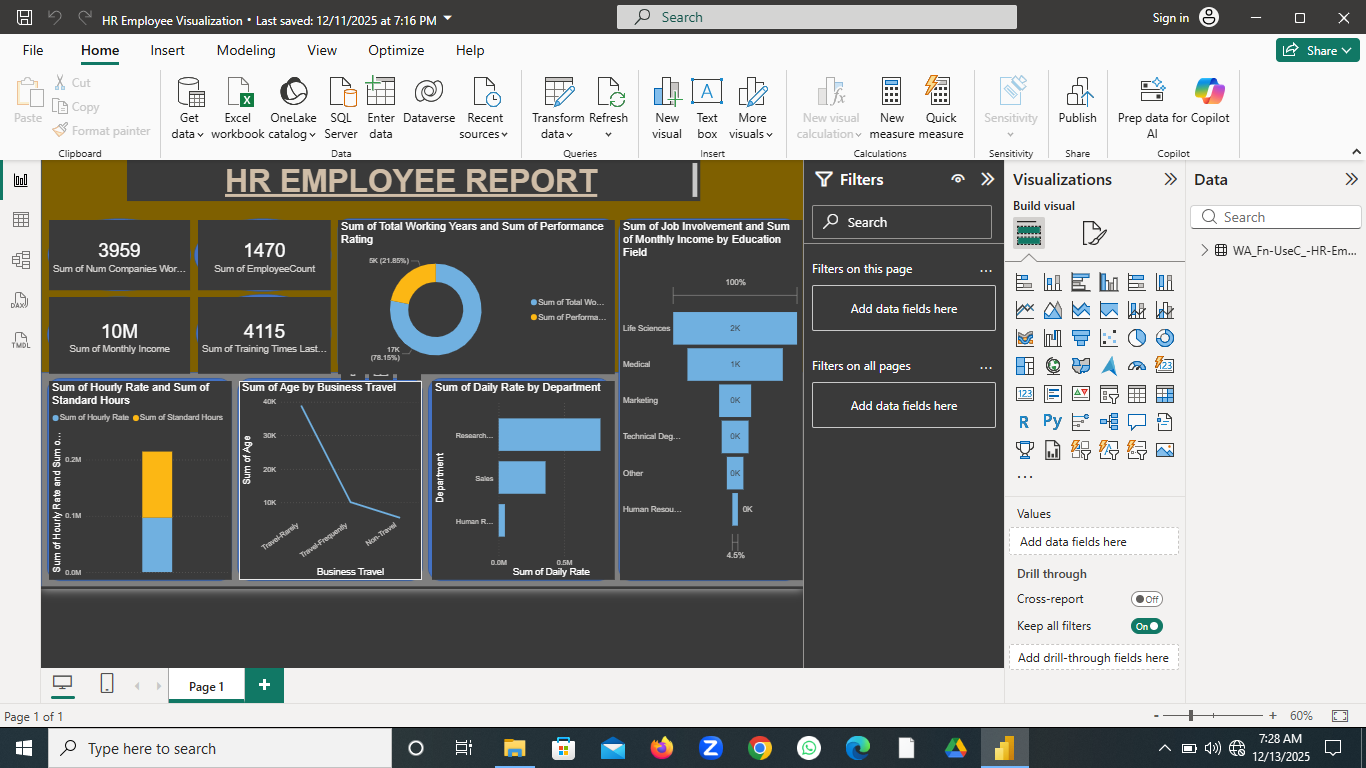

The page's visual inventory and layout, read from the dashboard file:
{"tool":"powerbi","page":{"name":"Page 1","canvas":[1280,720],"ordinal":0},"visuals":[{"type":"columnChart","fields":{"Y":["Sum(WA_Fn-UseC_-HR-Employee-Attriti.Hourly Rate)","Sum(WA_Fn-UseC_-HR-Employee-Attriti.Standard Hours)"]},"box":[13.4,371.2,307.4,334.3],"z":0},{"type":"clusteredBarChart","fields":{"Y":["Sum(WA_Fn-UseC_-HR-Employee-Attriti.Daily Rate)"],"Category":["WA_Fn-UseC_-HR-Employee-Attriti.Department"]},"box":[656.8,371.2,307.4,334.3],"z":1},{"type":"lineChart","fields":{"Y":["Sum(WA_Fn-UseC_-HR-Employee-Attriti.Age)"],"Category":["WA_Fn-UseC_-HR-Employee-Attriti.Business Travel"]},"box":[332.6,371.2,307.4,334.3],"z":2},{"type":"funnel","fields":{"Category":["WA_Fn-UseC_-HR-Employee-Attriti.Education Field"],"Y":["Sum(WA_Fn-UseC_-HR-Employee-Attriti.Job Involvement)"]},"box":[972.6,100.8,307.4,604.7],"z":3},{"type":"donutChart","fields":{"Y":["Sum(WA_Fn-UseC_-HR-Employee-Attriti.Total Working Years)","Sum(WA_Fn-UseC_-HR-Employee-Attriti.Performance Rating)"]},"box":[498.9,100.8,465.3,258.7],"z":4},{"type":"card","fields":{"Values":["Sum(WA_Fn-UseC_-HR-Employee-Attriti.Training Times Last Year)"]},"box":[263.7,230.1,223.4,129.3],"z":5},{"type":"card","fields":{"Values":["Sum(WA_Fn-UseC_-HR-Employee-Attriti.Monthly Income)"]},"box":[13.4,230.1,236.9,129.3],"z":6},{"type":"card","fields":{"Values":["Sum(WA_Fn-UseC_-HR-Employee-Attriti.Num Companies Worked)"]},"box":[13.4,100.8,236.9,117.6],"z":7},{"type":"card","fields":{"Values":["Sum(WA_Fn-UseC_-HR-Employee-Attriti.EmployeeCount)"]},"box":[263.7,100.8,223.4,117.6],"z":8},{"type":"textbox","box":[144.5,0,962.5,68.9],"z":9}]}

Visuals, with their boxes on the page's 1280x720 design canvas (x1, y1, x2, y2). These are canvas units, not pixel positions in the 1366x768 screenshot, which may show the page scaled, cropped or inside an application window:
columnChart - Sum(WA_Fn-UseC_-HR-Employee-Attriti.Hourly Rate) x Sum(WA_Fn-UseC_-HR-Employee-Attriti.Standard Hours): [13, 371, 321, 706]
clusteredBarChart - Sum(WA_Fn-UseC_-HR-Employee-Attriti.Daily Rate) x WA_Fn-UseC_-HR-Employee-Attriti.Department: [657, 371, 964, 706]
lineChart - Sum(WA_Fn-UseC_-HR-Employee-Attriti.Age) x WA_Fn-UseC_-HR-Employee-Attriti.Business Travel: [333, 371, 640, 706]
funnel - WA_Fn-UseC_-HR-Employee-Attriti.Education Field x Sum(WA_Fn-UseC_-HR-Employee-Attriti.Job Involvement): [973, 101, 1280, 706]
donutChart - Sum(WA_Fn-UseC_-HR-Employee-Attriti.Total Working Years) x Sum(WA_Fn-UseC_-HR-Employee-Attriti.Performance Rating): [499, 101, 964, 360]
card - Sum(WA_Fn-UseC_-HR-Employee-Attriti.Training Times Last Year): [264, 230, 487, 359]
card - Sum(WA_Fn-UseC_-HR-Employee-Attriti.Monthly Income): [13, 230, 250, 359]
card - Sum(WA_Fn-UseC_-HR-Employee-Attriti.Num Companies Worked): [13, 101, 250, 218]
card - Sum(WA_Fn-UseC_-HR-Employee-Attriti.EmployeeCount): [264, 101, 487, 218]
textbox: [144, 0, 1107, 69]
